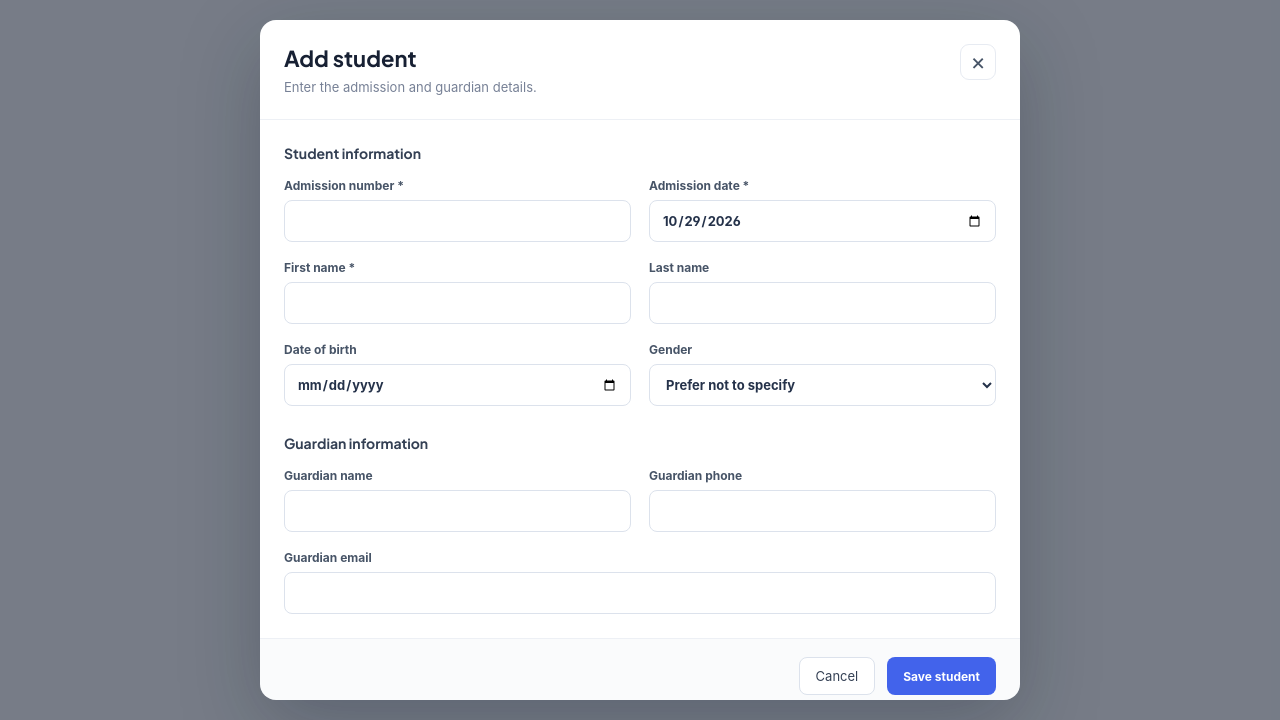
Test: StudentForm › displays a fallback message when the API error has no message
Type "ADM-404" into the field labelled "Admission number *" at (458, 221), box [284, 200, 631, 242]
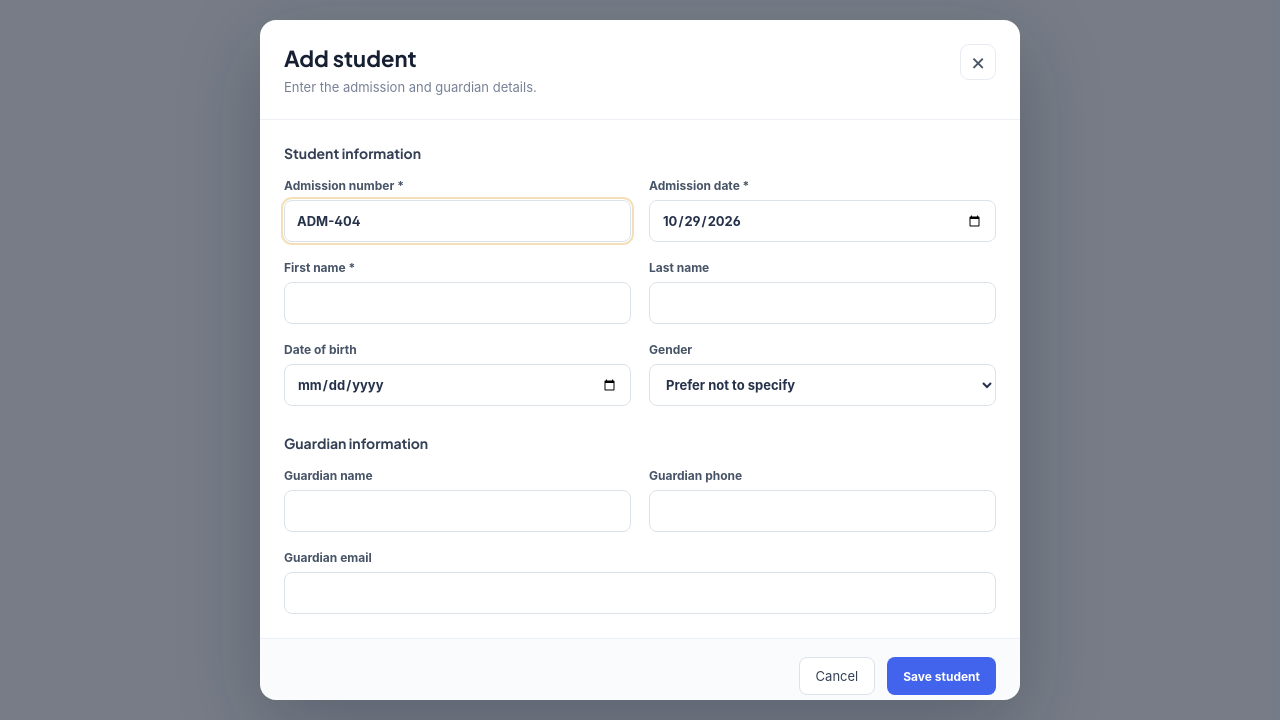
Type "Ayaan" into the field labelled "First name *" at (458, 303), box [284, 282, 631, 324]
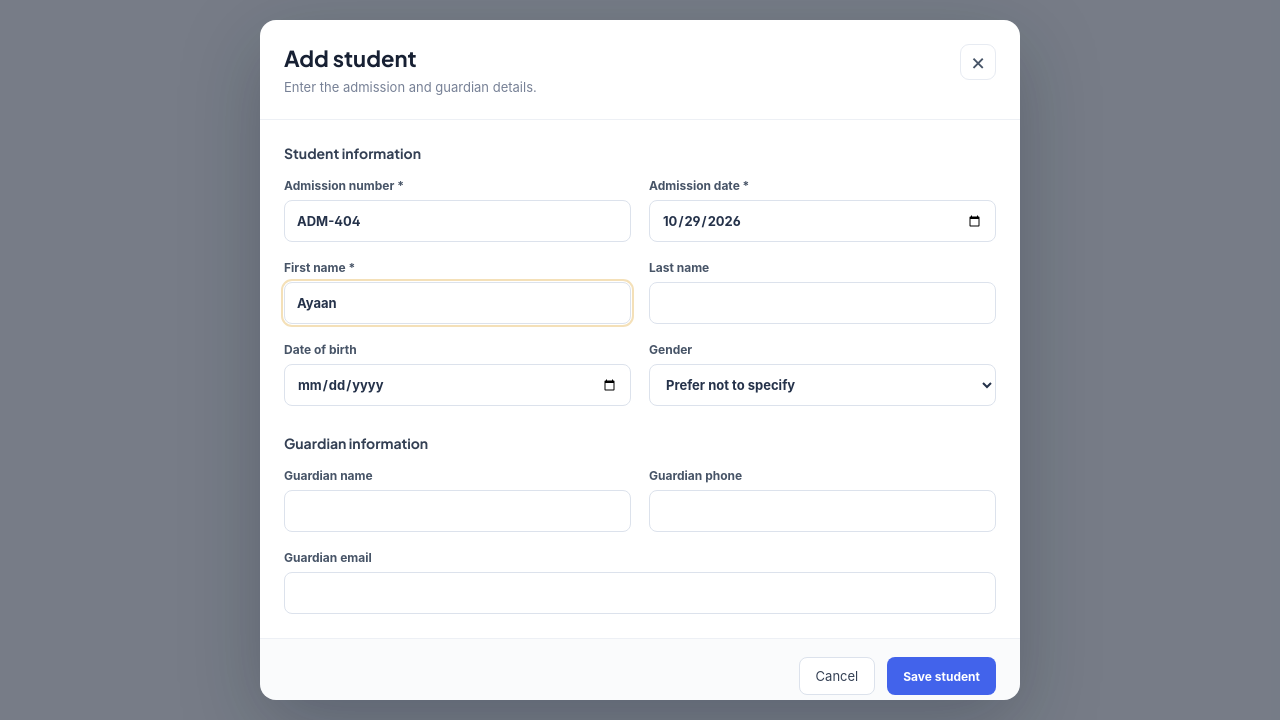
Click the button "Save student" at (942, 676), box [887, 657, 996, 695]
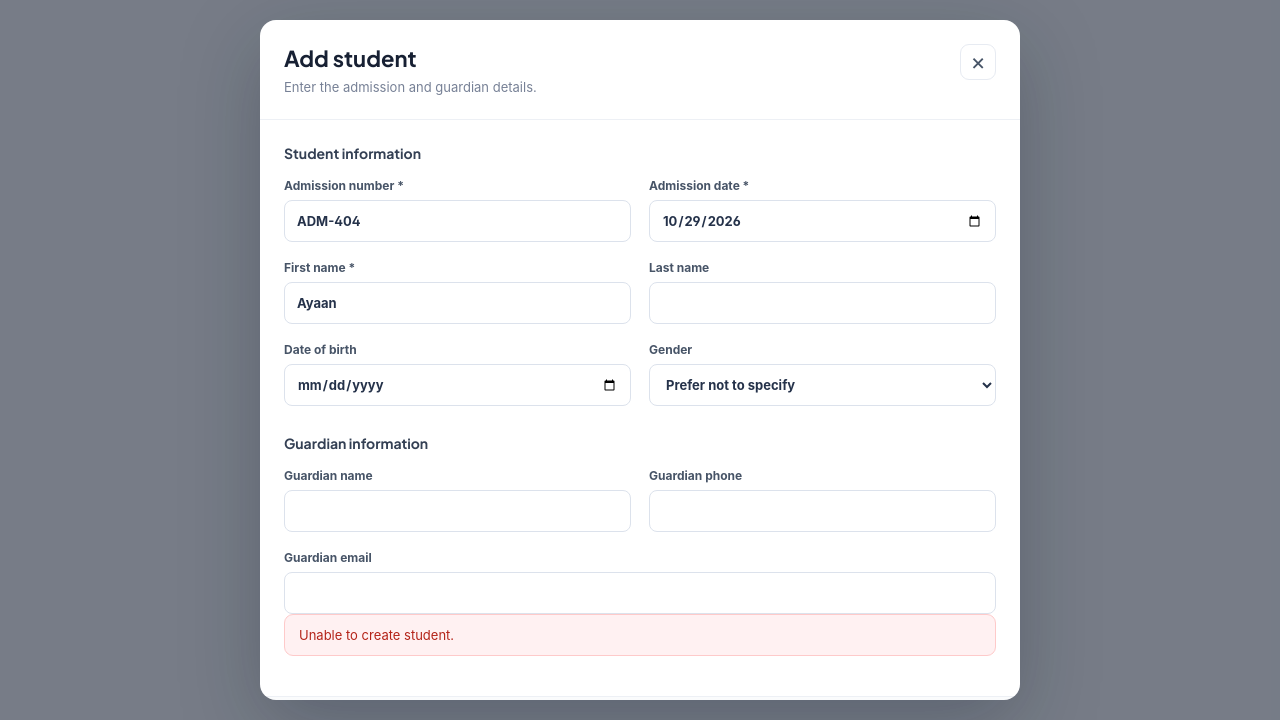
Result: the message reads "Unable to create student." at [299, 627, 454, 643]
